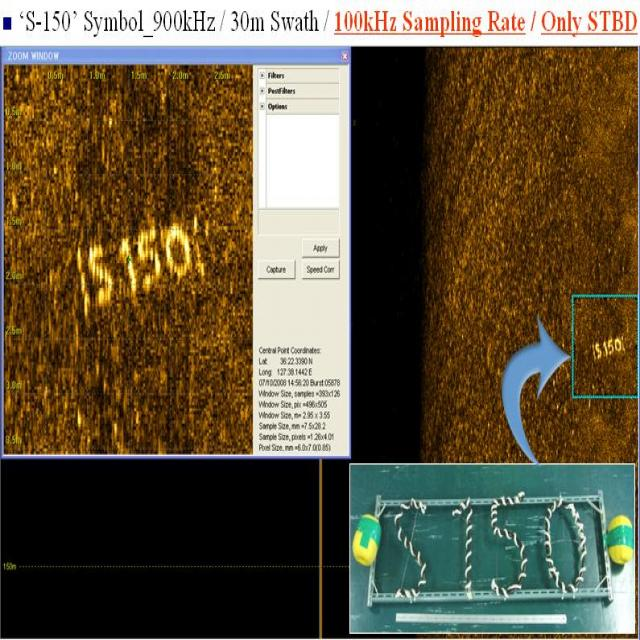other: (64, 195, 210, 334), (584, 314, 630, 368)
